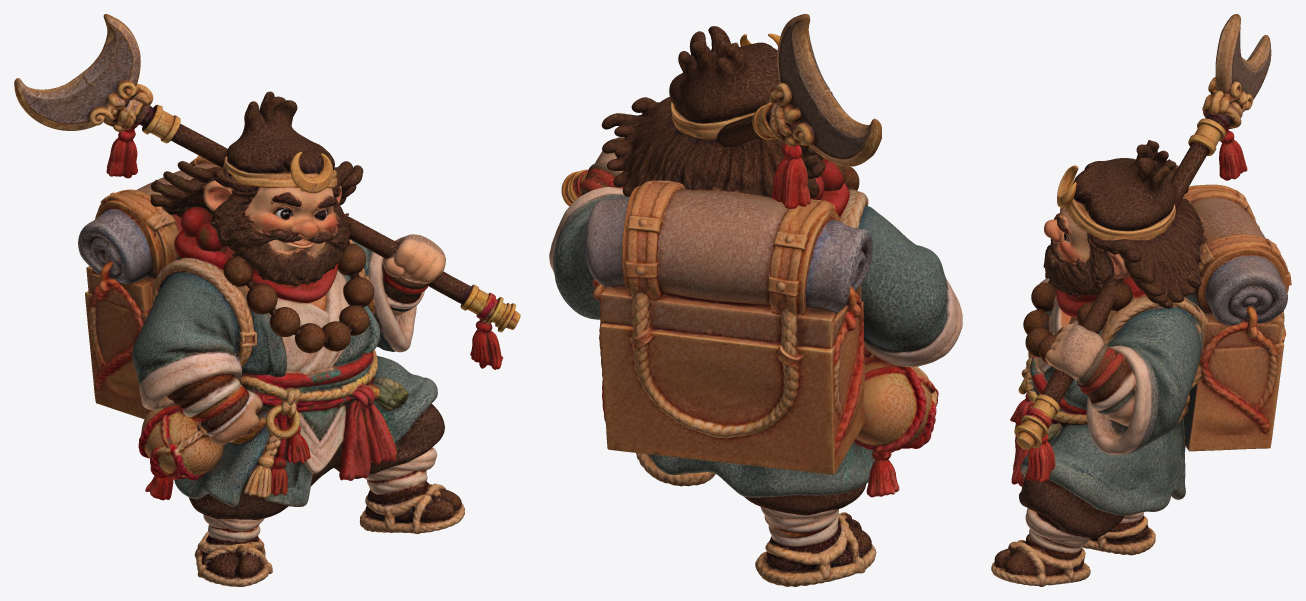
The model's file is sha-seng-preview.glb.
The picture shows the model from 3 angles, left to right: view 1: azimuth 30°, elevation 25°; view 2: azimuth 150°, elevation 25°; view 3: azimuth 270°, elevation 25°; orthographic projection. The views are drawn at different scales.
Parts seen in each view (by area): view 1: tripo_node_e9580c49-e3f4-4c9a-81c3-4da3d8d30cf4; view 2: tripo_node_e9580c49-e3f4-4c9a-81c3-4da3d8d30cf4; view 3: tripo_node_e9580c49-e3f4-4c9a-81c3-4da3d8d30cf4.
Boxes of the visible parts, x1,y1,x2,y2 form: tripo_node_e9580c49-e3f4-4c9a-81c3-4da3d8d30cf4: (14,14,520,586); tripo_node_e9580c49-e3f4-4c9a-81c3-4da3d8d30cf4: (549,14,962,586); tripo_node_e9580c49-e3f4-4c9a-81c3-4da3d8d30cf4: (991,14,1291,586).
Bounding box in the file's own units: 0.7531 × 0.9786 × 0.5336.
1 material, 1 textured.
